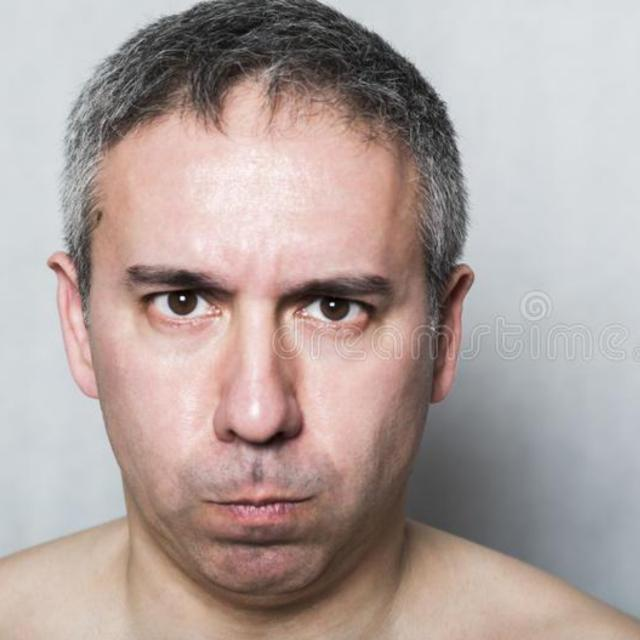Angry: (70, 125, 463, 628)
